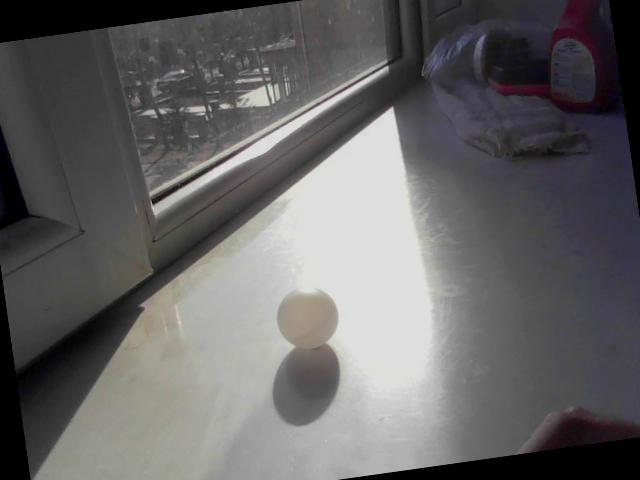ball: (274, 284, 342, 352)
